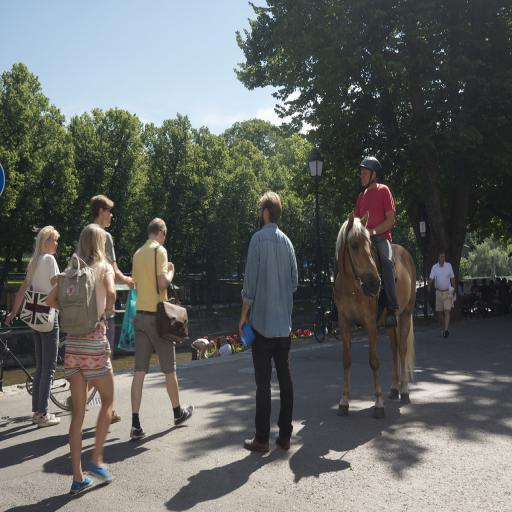horse: (330, 208, 418, 422)
